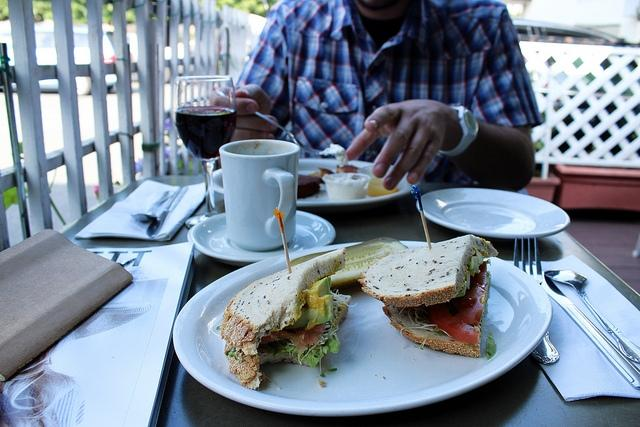tomato: (427, 262, 487, 346), (260, 322, 326, 354)
